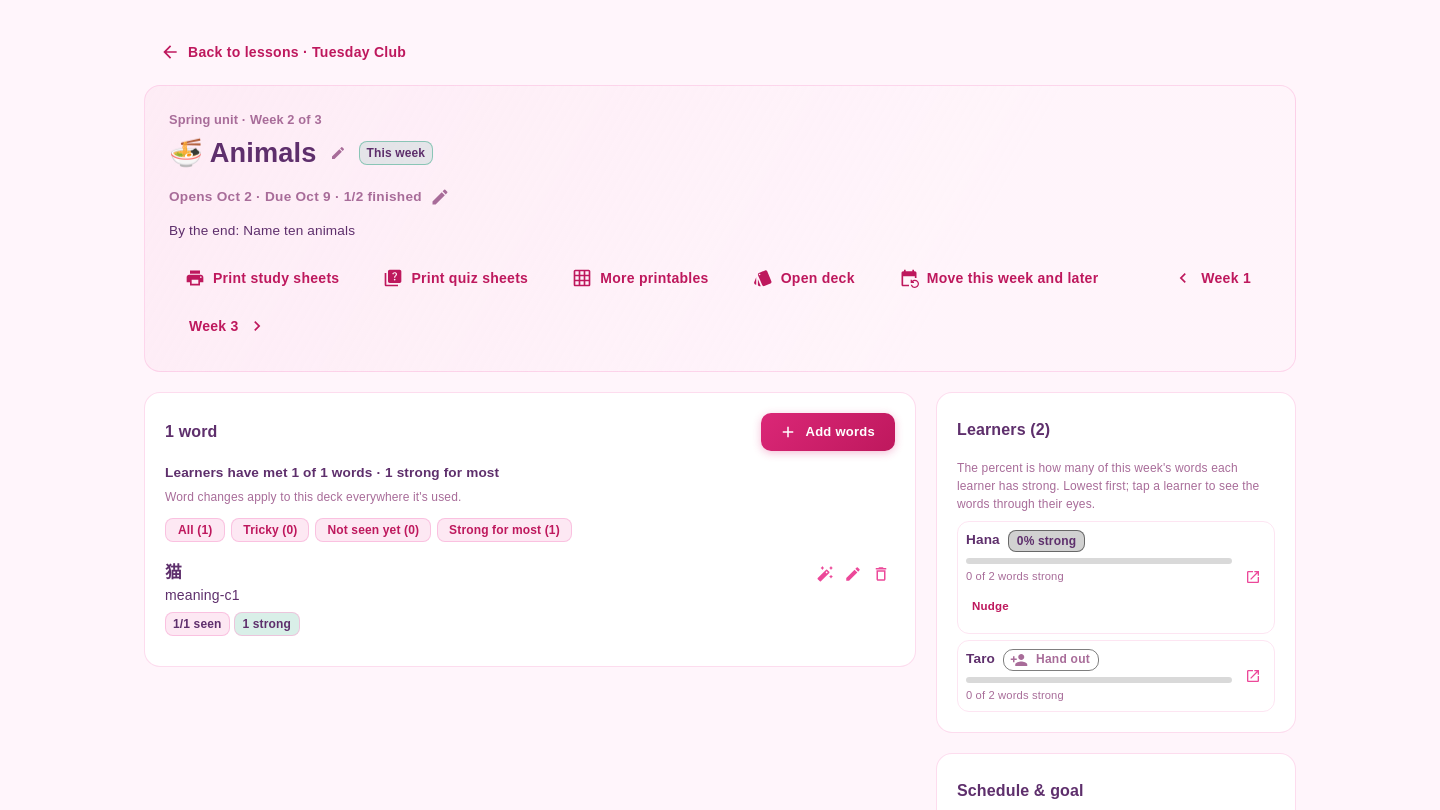
Scenario: HandoutPage › keeps the deck name and says so when the handout title fails to sync
Click the button named "Rename lesson" at x=338, y=153, box [324, 140, 350, 166]
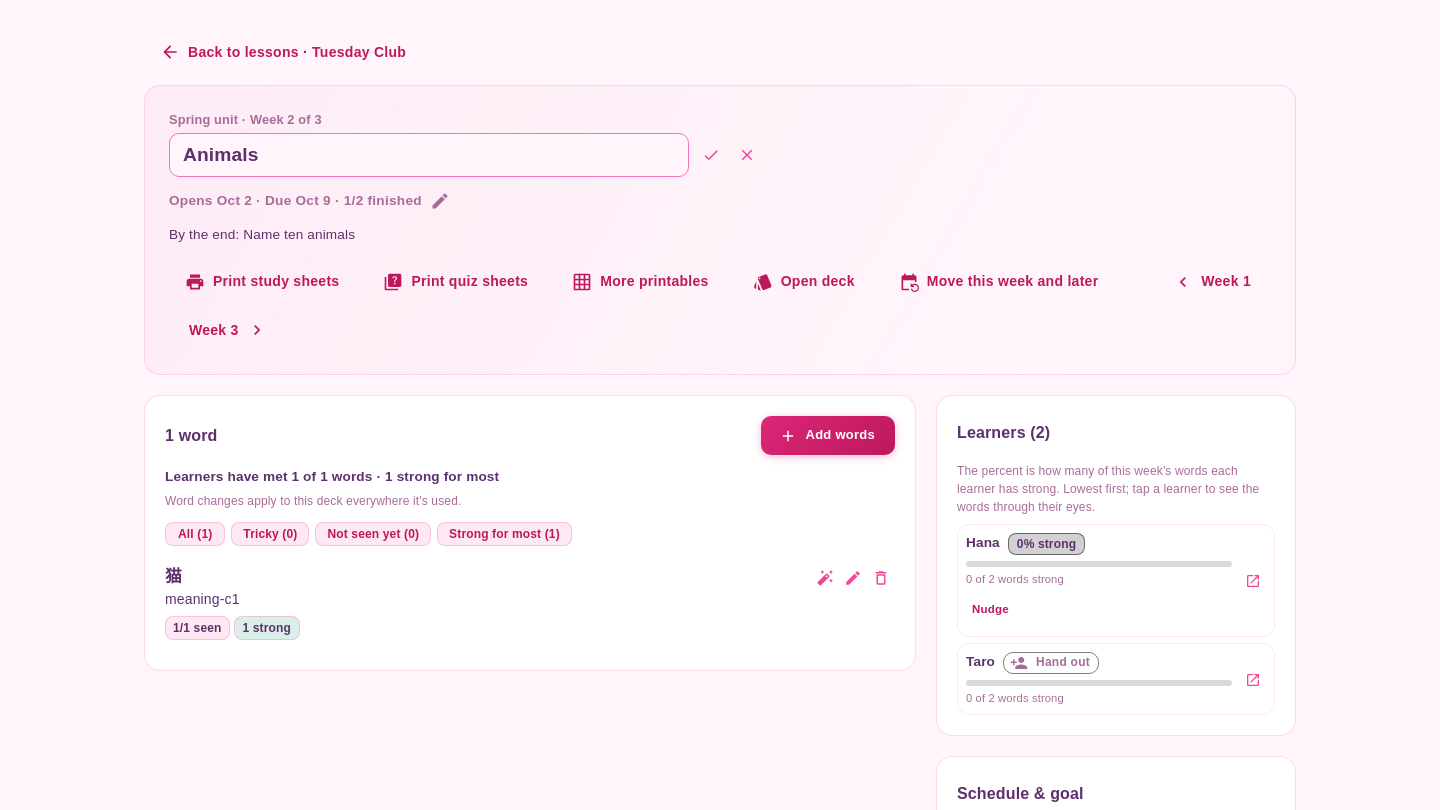
Replace the text in the field named "Lesson name" with "Zoo trip" at x=429, y=155, box [169, 133, 689, 177]
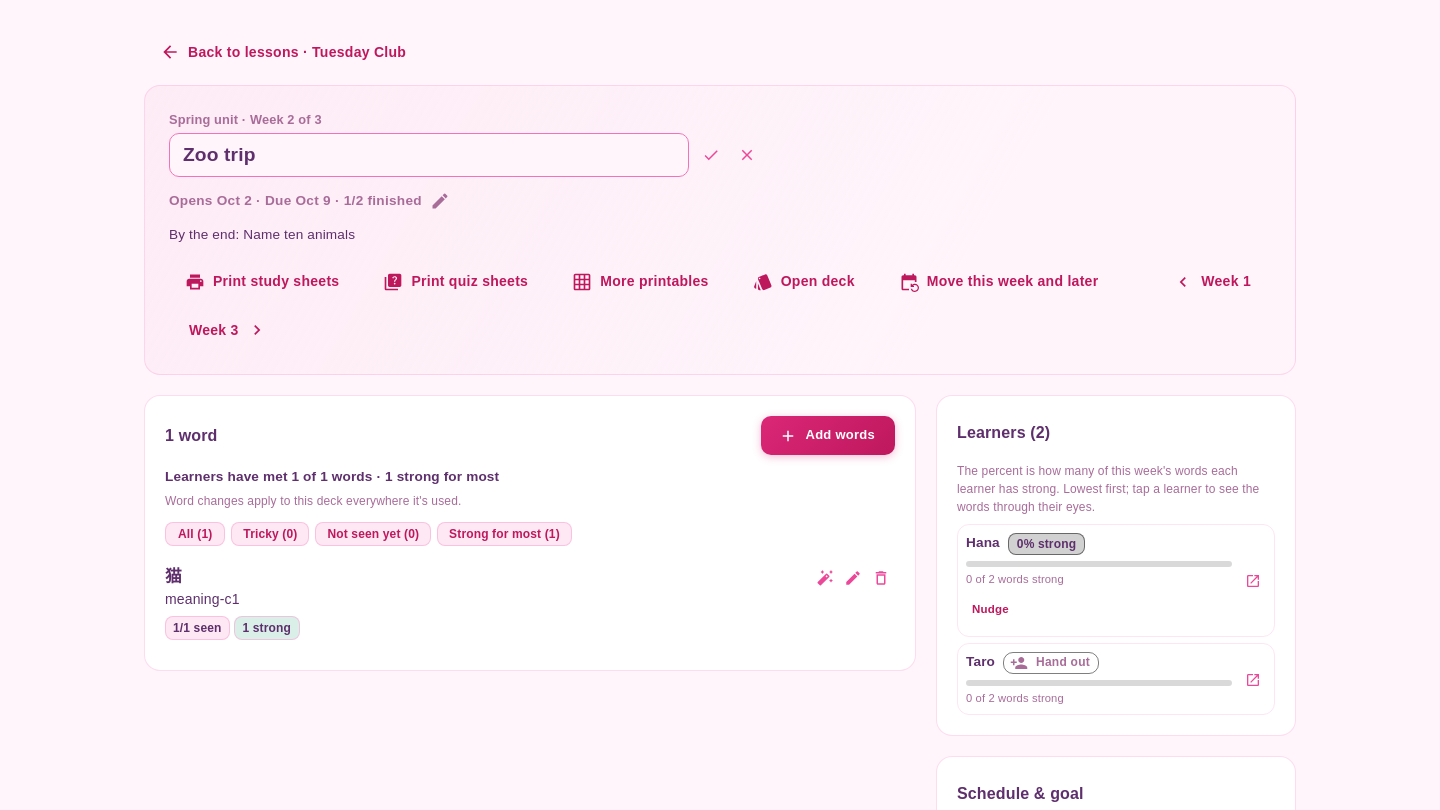
Click the button named "Save name" at x=711, y=155, box [697, 141, 725, 169]
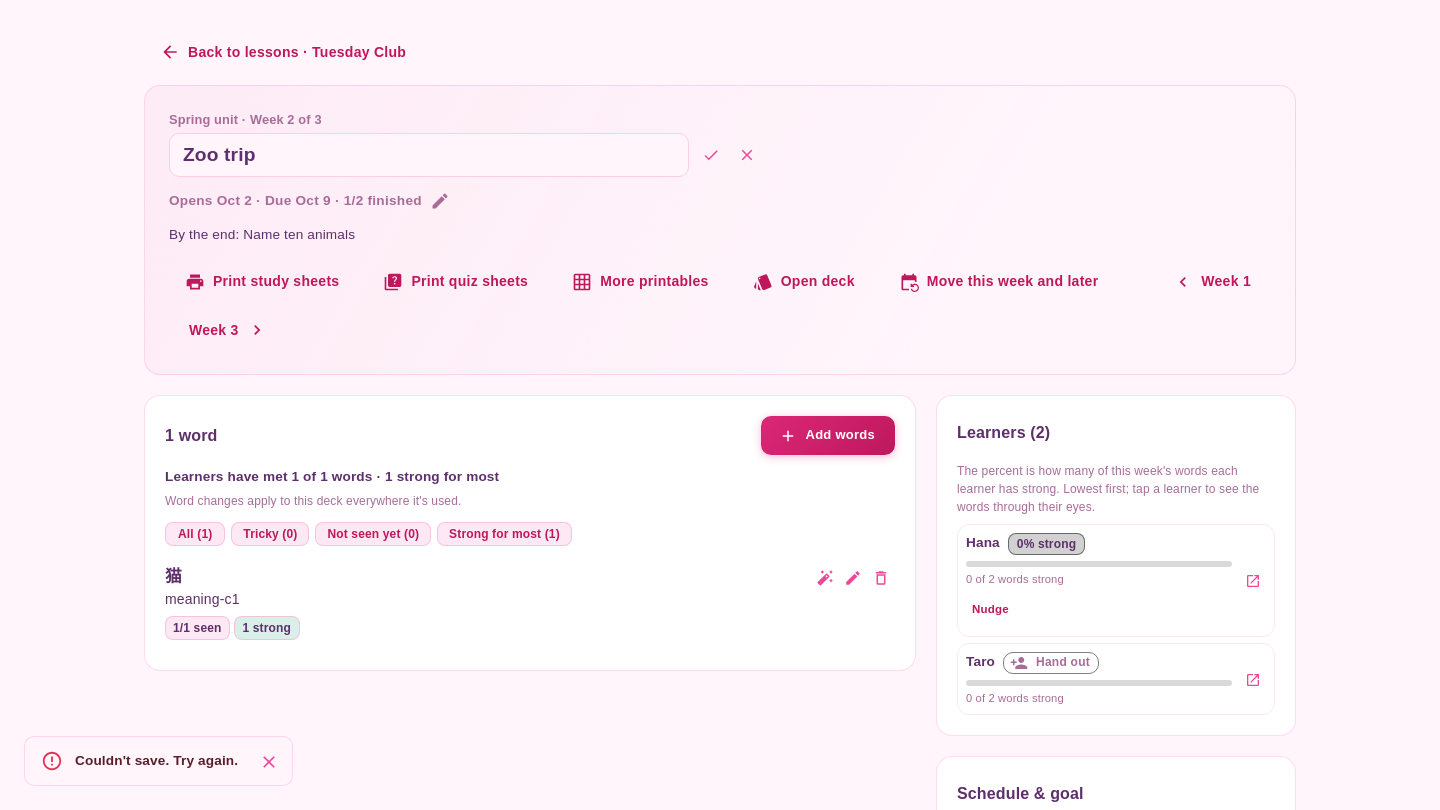
Expected: the text "Couldn't save. Try again." is shown, [75, 753, 238, 768]
